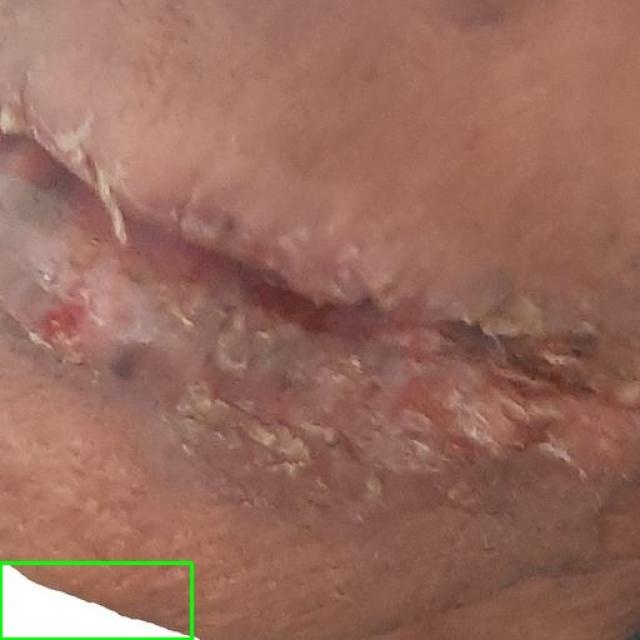Contact Dermatitis: (0, 562, 192, 639)
